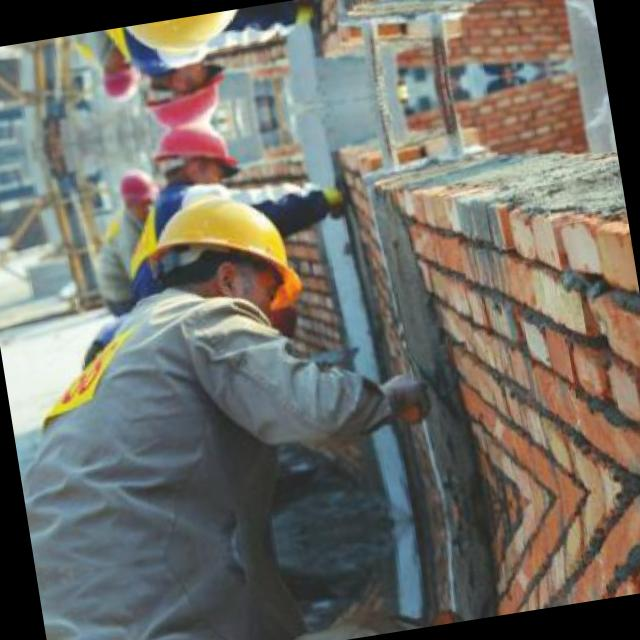helmet: (110, 168, 314, 348), (84, 5, 273, 84), (145, 119, 239, 201), (134, 52, 228, 134), (114, 165, 160, 221), (95, 50, 141, 106)
